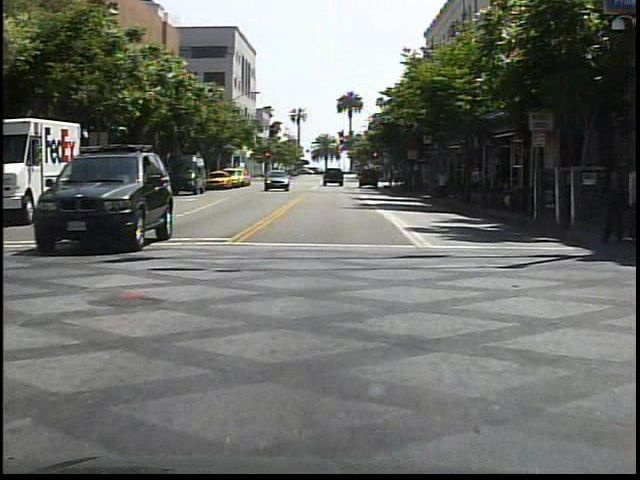person: (589, 152, 625, 245)
